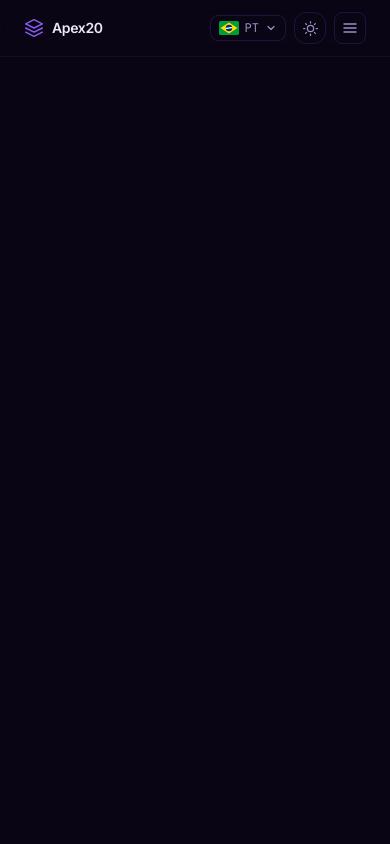
it: Navbar › hamburger aria-label changes to 'Fechar menu' when open
Click the button named "abrir menu". click: (350, 28)
box: [334,12,366,44]
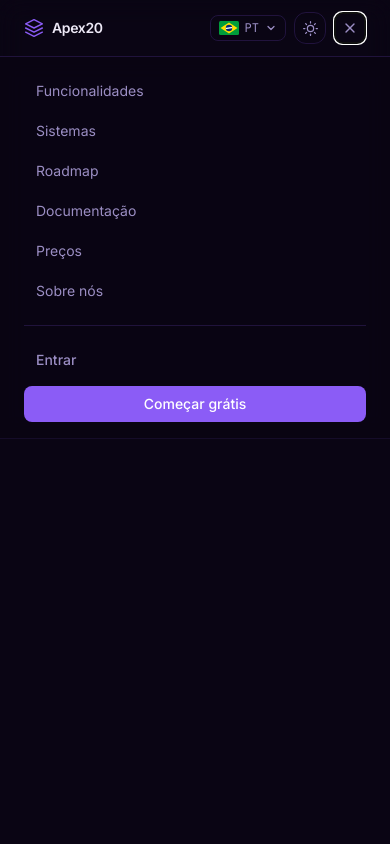
Check: the button named "fechar menu" is shown, box [334,12,366,44]
